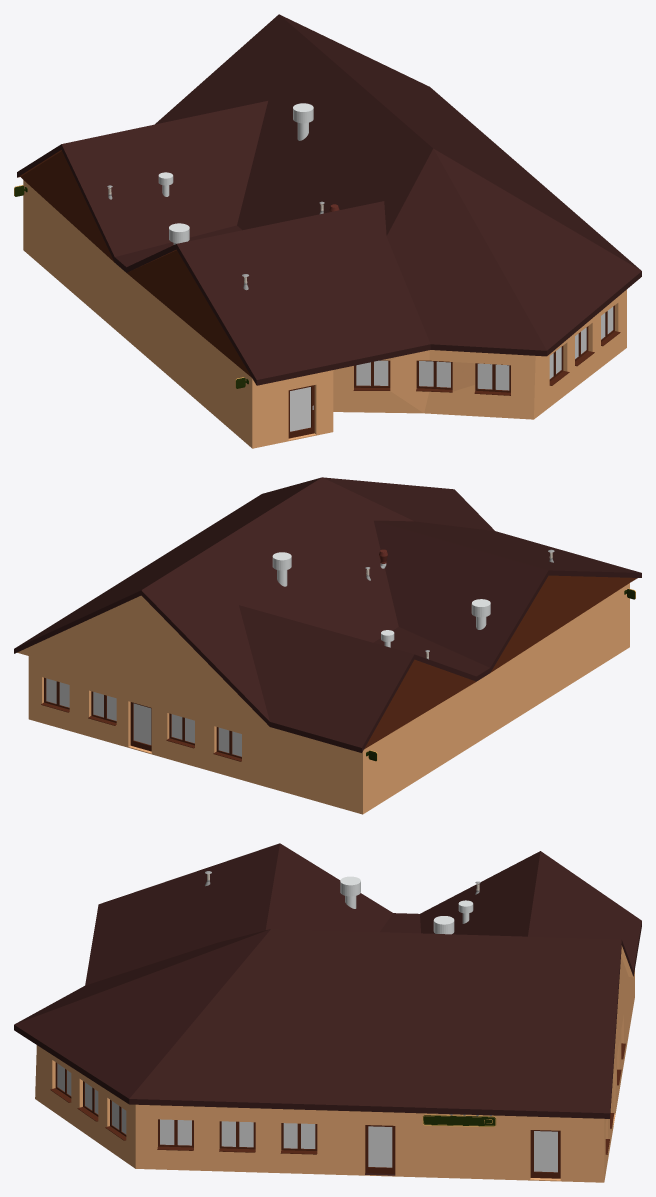
Rendered from Hribek.glb.
3 views of the same model, one above another, from view 1: azimuth 30°, elevation 25°; view 2: azimuth 150°, elevation 25°; view 3: azimuth 270°, elevation 25° (orthographic). The views are drawn at different scales.
Parts seen in each view (by area): view 1: Cube; view 2: Cube, Cylinder.005; view 3: Cube, Cube.001, Cylinder.003.
Boxes of the visible parts, x1,y1,x2,y2 form: Cube: (17, 14, 641, 448); Cube: (14, 477, 641, 814); Cylinder.005: (272, 552, 291, 586); Cube: (14, 843, 641, 1182); Cube.001: (422, 1114, 496, 1126); Cylinder.003: (340, 876, 360, 908).
Size of what is drawn, in the model's own units: 6.79 by 2.67 by 8.48.
